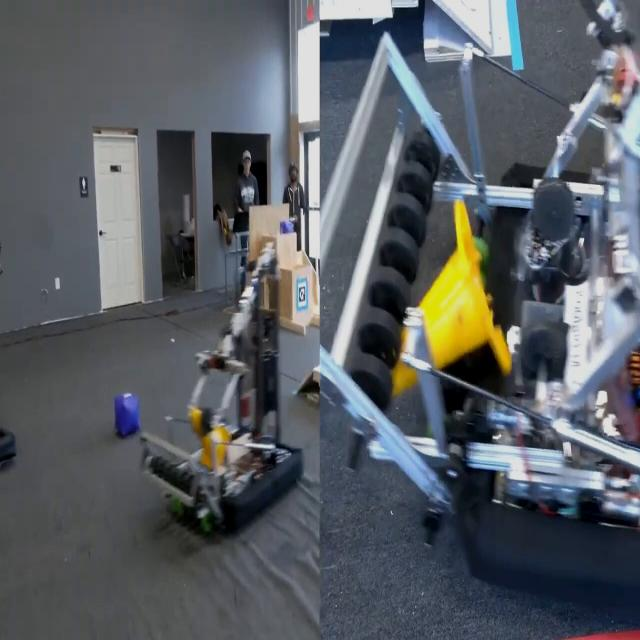frc_cone: (351, 231, 522, 398), (185, 392, 236, 474)
frc_cube: (110, 387, 141, 440), (277, 218, 295, 233)
